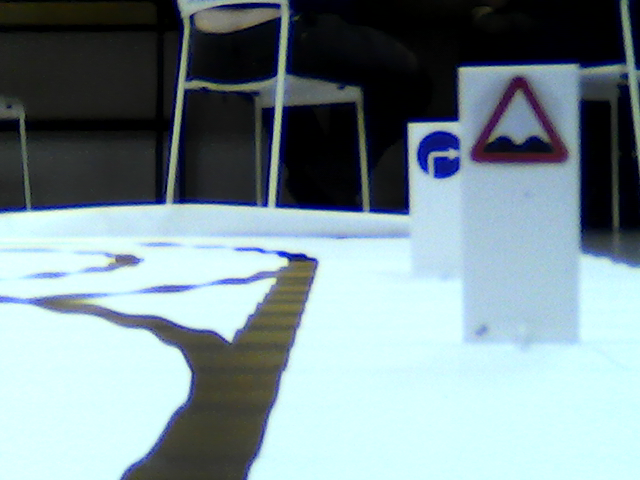Nerov: (471, 73, 571, 164)
Right: (417, 130, 459, 178)
